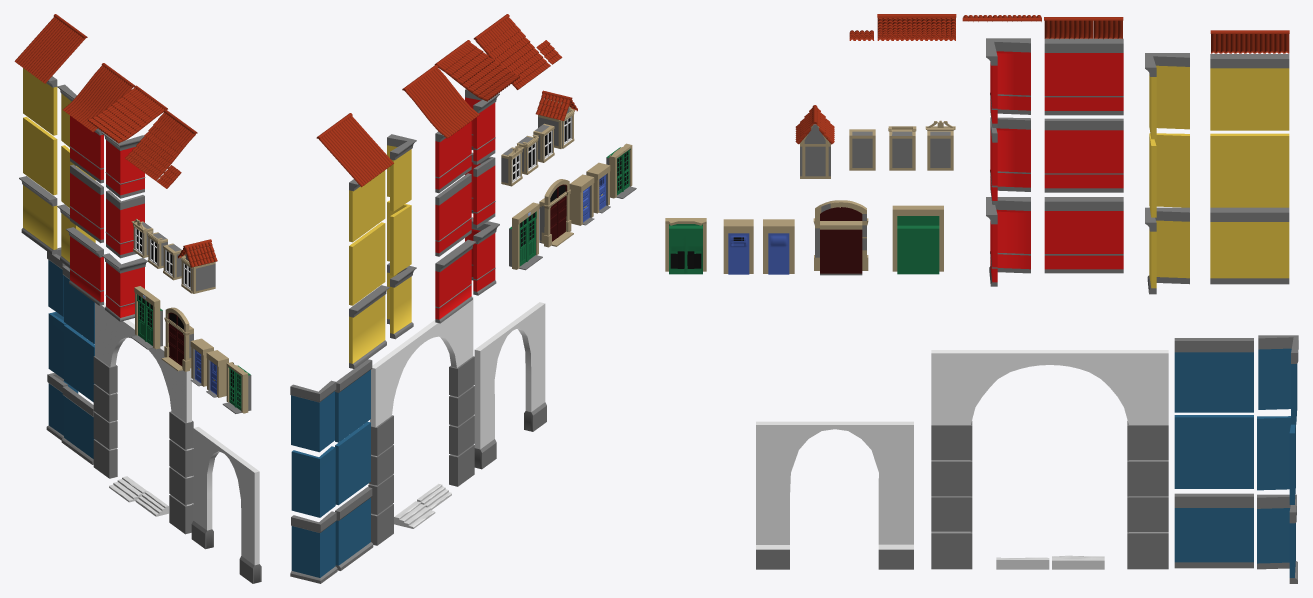
Rendered from WindowForRoof.fbx.
The picture shows the model from 3 angles, left to right: view 1: azimuth 30°, elevation 25°; view 2: azimuth 150°, elevation 25°; view 3: azimuth 270°, elevation 25°; orthographic projection. The views are drawn at different scales.
Parts seen in each view (by area): view 1: Archeway_Big, Archeway_Medium, Roof_Side_Curved_With_Variation001, Roof_Side_Straight, Roof_Side_Curved_With_Variation, Wall002_Base, Wall002_Mid, Wall003_Base, Roof_Side_Curved, Wall003_Base_Cornor, Wall003_Mid, Wall003_Mid_Cornor (+24 smaller); view 2: Archeway_Big, Archeway_Medium, Wall001_Base_Cornor, Wall001_Mid_Cornor, Wall001_Top_Cornor, Roof_Side_Curved, Roof_Side_Straight, Roof_Side_Curved_With_Variation001, Roof_Side_Curved_With_Variation, Wall002_Base, Wall003_Base, Wall001_Base (+24 smaller); view 3: Archeway_Big, Archeway_Medium, Wall002_Base, Wall003_Top, Wall002_Top, Wall003_Base, Wall001_Base, Wall001_Top, Wall002_Mid, Wall003_Mid, Wall001_Mid, MainDoubleDoor1 (+20 smaller).
Part boxes in pixels (<box>): Archeway_Big: <box>93,302,193,534</box>; Archeway_Medium: <box>191,427,261,583</box>; Roof_Side_Curved_With_Variation001: <box>125,112,195,180</box>; Roof_Side_Straight: <box>14,16,85,83</box>; Roof_Side_Curved_With_Variation: <box>88,87,164,143</box>; Wall002_Base: <box>19,176,57,254</box>; Wall002_Mid: <box>23,117,57,195</box>; Wall003_Base: <box>66,227,103,305</box>; Roof_Side_Curved: <box>62,65,132,132</box>; Wall003_Base_Cornor: <box>101,253,147,321</box>; Wall003_Mid: <box>69,164,103,243</box>; Wall003_Mid_Cornor: <box>105,190,144,258</box>; Archeway_Big: <box>368,297,474,545</box>; Archeway_Medium: <box>474,302,546,469</box>; Wall001_Base_Cornor: <box>290,511,337,583</box>; Wall001_Mid_Cornor: <box>291,446,335,517</box>; Wall001_Top_Cornor: <box>290,380,336,452</box>; Roof_Side_Curved: <box>404,67,479,138</box>; Roof_Side_Straight: <box>319,115,393,187</box>; Roof_Side_Curved_With_Variation001: <box>475,17,550,89</box>; Roof_Side_Curved_With_Variation: <box>438,42,519,101</box>; Wall002_Base: <box>349,285,389,368</box>; Wall003_Base: <box>435,239,475,323</box>; Wall001_Base: <box>335,487,373,570</box>; Archeway_Big: <box>931,350,1168,569</box>; Archeway_Medium: <box>756,421,913,569</box>; Wall002_Base: <box>1210,207,1289,284</box>; Wall003_Top: <box>1044,38,1123,115</box>; Wall002_Top: <box>1210,54,1289,130</box>; Wall003_Base: <box>1044,197,1123,273</box>; Wall001_Base: <box>1174,493,1253,568</box>; Wall001_Top: <box>1174,338,1253,412</box>; Wall002_Mid: <box>1210,133,1289,207</box>; Wall003_Mid: <box>1044,118,1123,192</box>; Wall001_Mid: <box>1174,415,1253,488</box>; MainDoubleDoor1: <box>813,200,868,275</box>.
Bounding box in the file's own units: 194 × 896 × 946.
